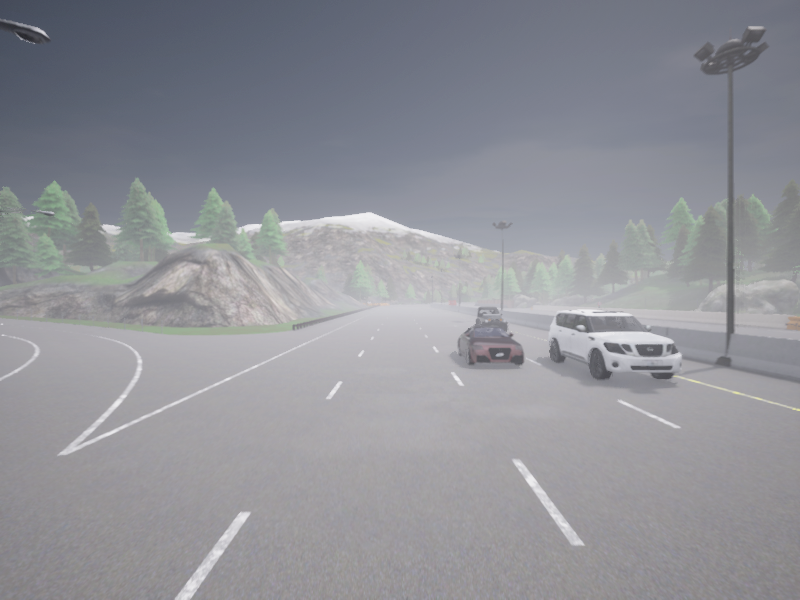vehicle: (548, 310, 681, 379), (457, 326, 524, 365), (475, 307, 507, 331), (447, 300, 455, 305), (476, 301, 477, 302)
